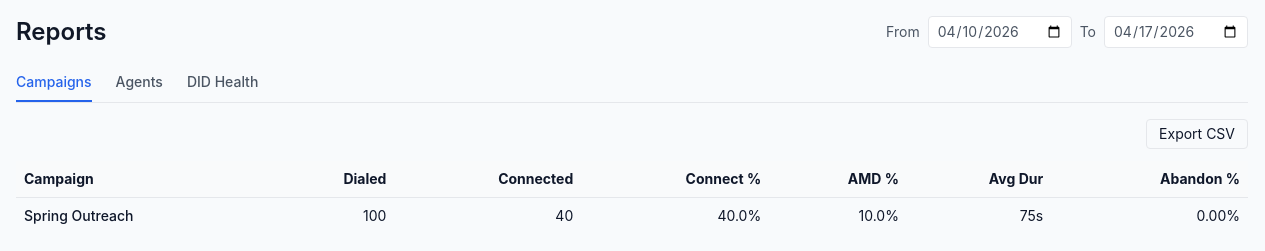
Test: ReportsClient › switches to Agents tab
Expected: the table with test id "campaign-report-table" is shown, [16,161,1248,234]
Click the tab "Agents" at (139, 83), box [116,64,163,102]
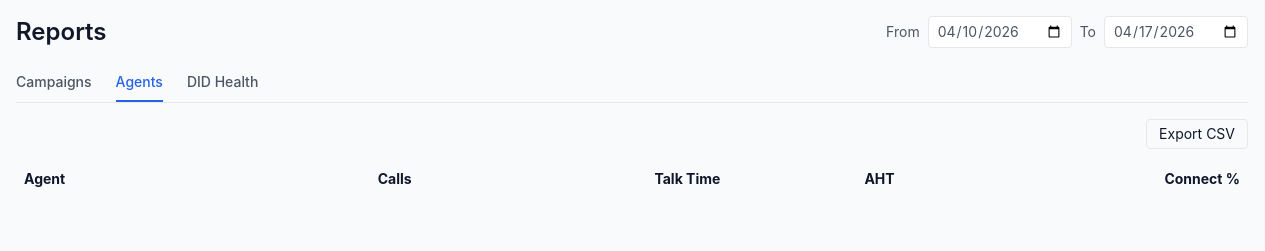
Now the table with test id "agent-report-table" is shown, box [16,161,1248,197]
